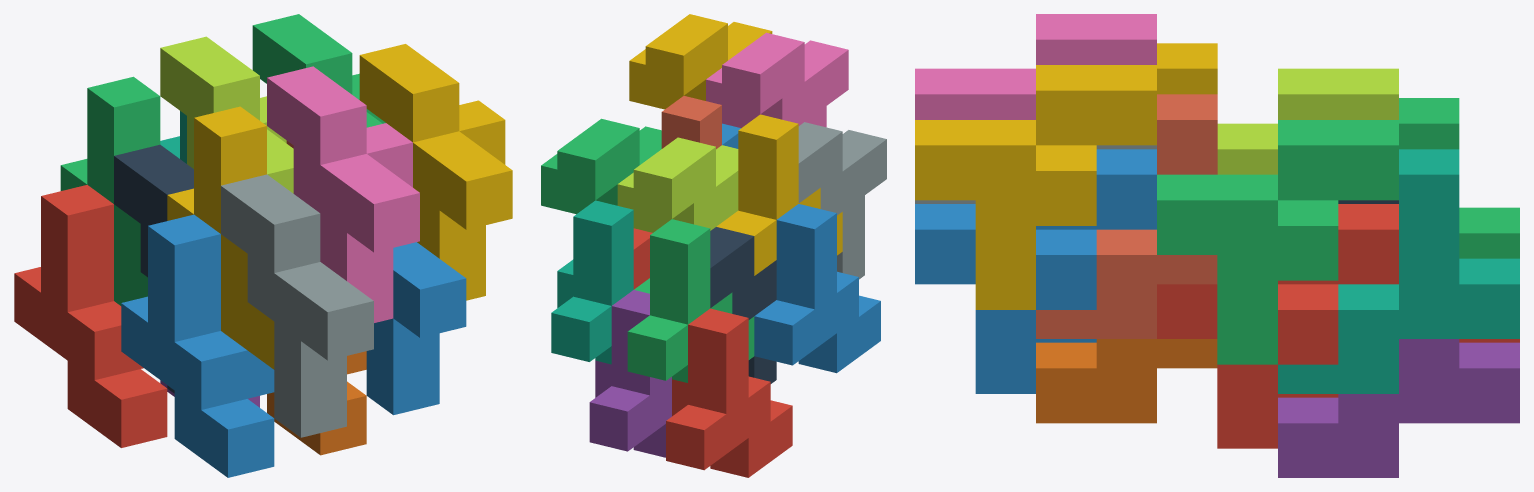
The model's file is tiling.obj.
3 renders of one model, left to right at view 1: azimuth 30°, elevation 25°; view 2: azimuth 150°, elevation 25°; view 3: azimuth 270°, elevation 25°, orthographic. The views are drawn at different scales.
Visible parts, largest first — view 1: copy_1_domain_2, copy_2_domain_2, copy_2_domain_4, copy_1_domain_1, copy_2_domain_8, copy_2_domain_6, copy_1_domain_4, copy_1_domain_3, copy_2_domain_3, copy_2_domain_7, copy_2_domain_1, copy_1_domain_6 (+1 smaller); view 2: copy_1_domain_1, copy_1_domain_2, copy_2_domain_4, copy_1_domain_3, copy_1_domain_7, copy_2_domain_3, copy_1_domain_5, copy_1_domain_4, copy_2_domain_2, copy_2_domain_8, copy_2_domain_7, copy_2_domain_1 (+3 smaller); view 3: copy_2_domain_7, copy_2_domain_8, copy_1_domain_7, copy_2_domain_6, copy_1_domain_5, copy_2_domain_5, copy_1_domain_8, copy_2_domain_4, copy_1_domain_6, copy_2_domain_3, copy_1_domain_3, copy_1_domain_4.
Part boxes in pixels (x1,y1,x2,y2): copy_1_domain_2: (121, 214, 274, 477); copy_2_domain_2: (221, 174, 373, 437); copy_2_domain_4: (267, 66, 419, 322); copy_1_domain_1: (14, 185, 167, 447); copy_2_domain_8: (359, 44, 512, 300); copy_2_domain_6: (366, 242, 466, 415); copy_1_domain_4: (167, 106, 274, 369); copy_1_domain_3: (60, 76, 160, 305); copy_2_domain_3: (160, 36, 293, 193); copy_2_domain_7: (252, 14, 385, 127); copy_2_domain_1: (114, 144, 193, 393); copy_1_domain_6: (267, 351, 366, 455); copy_1_domain_1: (666, 308, 792, 477); copy_1_domain_2: (754, 204, 880, 373); copy_2_domain_4: (706, 32, 848, 128); copy_1_domain_3: (627, 219, 754, 382); copy_1_domain_7: (551, 200, 633, 364); copy_2_domain_3: (617, 137, 738, 232); copy_1_domain_5: (589, 290, 671, 457); copy_1_domain_4: (716, 114, 842, 275); copy_2_domain_2: (798, 122, 886, 279); copy_2_domain_8: (629, 14, 772, 109); copy_2_domain_7: (541, 118, 661, 214); copy_2_domain_1: (710, 227, 776, 383); copy_2_domain_7: (1157, 120, 1398, 364); copy_2_domain_8: (915, 65, 1156, 309); copy_1_domain_7: (1278, 149, 1519, 393); copy_2_domain_6: (915, 149, 1156, 393); copy_1_domain_5: (1278, 339, 1519, 477); copy_2_domain_5: (1157, 204, 1398, 448); copy_1_domain_8: (1036, 94, 1217, 338); copy_2_domain_4: (915, 14, 1156, 119); copy_1_domain_6: (1036, 339, 1217, 423); copy_2_domain_3: (1217, 68, 1398, 174); copy_1_domain_3: (1399, 98, 1519, 258); copy_1_domain_4: (1157, 43, 1217, 94).
Bounding box in the file's own units: 6 × 8 × 10.
